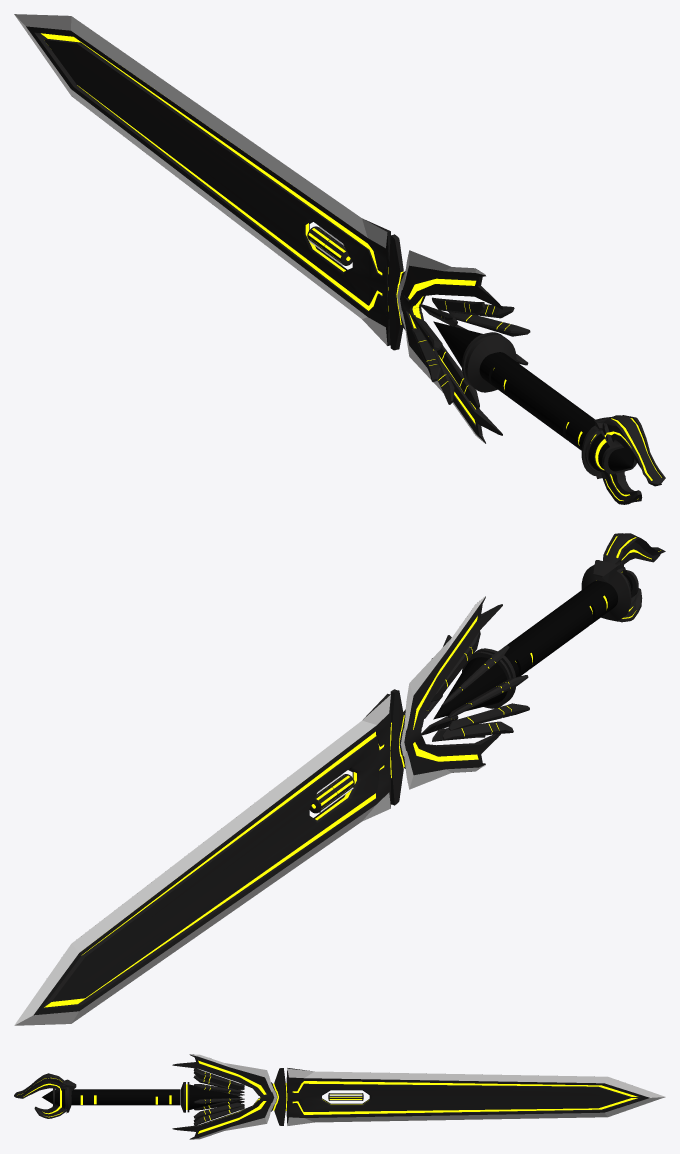
3 renders of one model, top to bottom at view 1: azimuth 30°, elevation 25°; view 2: azimuth 150°, elevation 25°; view 3: azimuth 270°, elevation 25°, orthographic. The views are drawn at different scales.
Visible parts, largest first — view 1: Lame, Garde, Cylinder; view 2: Lame, Garde, Cylinder; view 3: Lame, Garde, Cylinder.
Part boxes in pixels (x1=…): Lame: x1=14, y1=14, x2=665, y2=504; Garde: x1=411, y1=297, x2=530, y2=409; Cylinder: x1=307, y1=226, x2=352, y2=265; Lame: x1=14, y1=533, x2=665, y2=1025; Garde: x1=421, y1=631, x2=529, y2=741; Cylinder: x1=309, y1=774, x2=354, y2=813; Lame: x1=14, y1=1054, x2=665, y2=1139; Garde: x1=193, y1=1068, x2=244, y2=1125; Cylinder: x1=328, y1=1093, x2=363, y2=1100.
Bounding box in the file's own units: 0.1277 × 0.2096 × 1.45.
